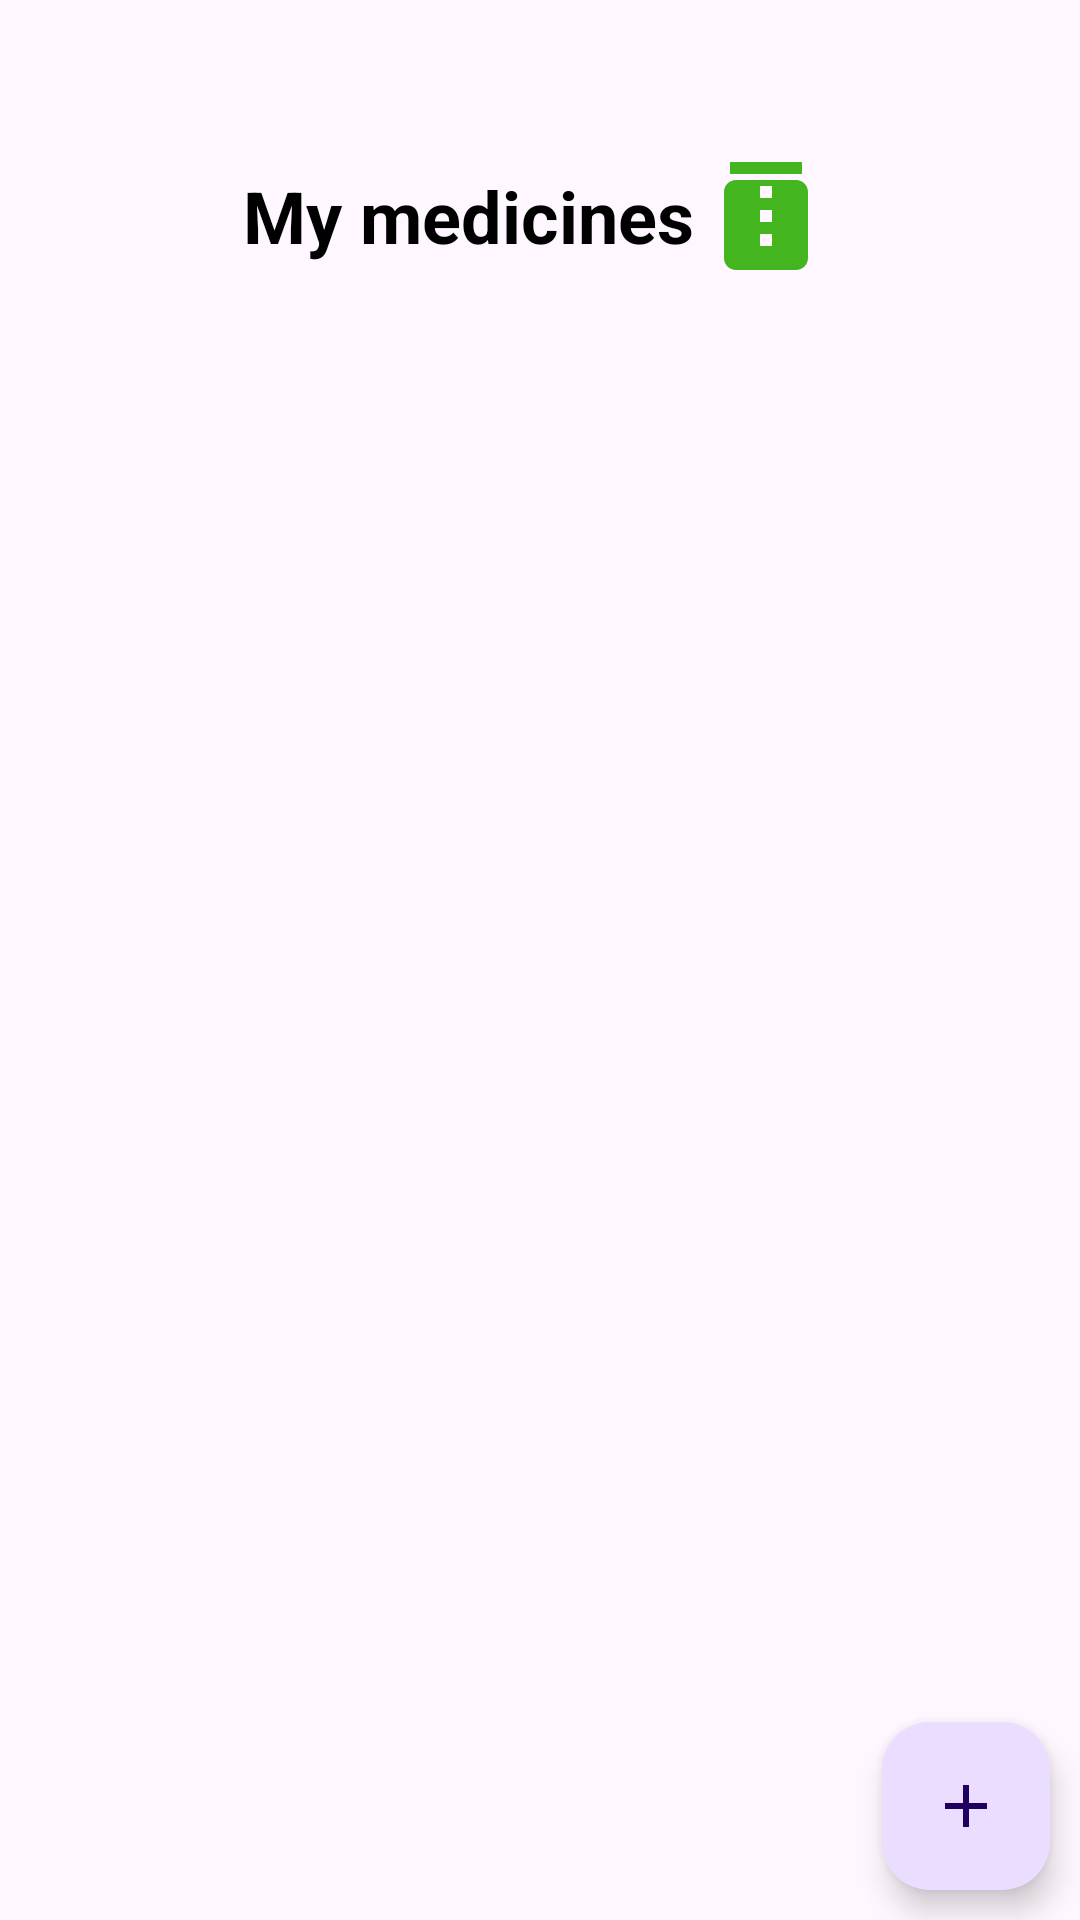

Where icons sit on this 1080px×1920px app screen, as box(x1, y1, x2, y2):
Add medicine: box(882, 1722, 1050, 1890)
medication: box(724, 162, 808, 270)
